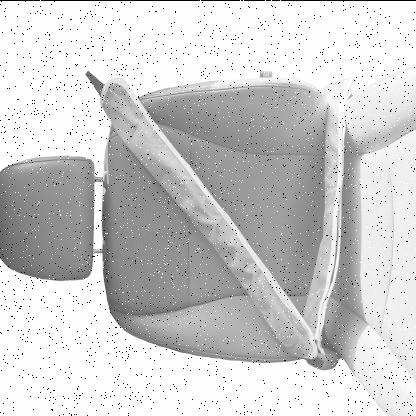seatbelt: (78, 64, 342, 358)
